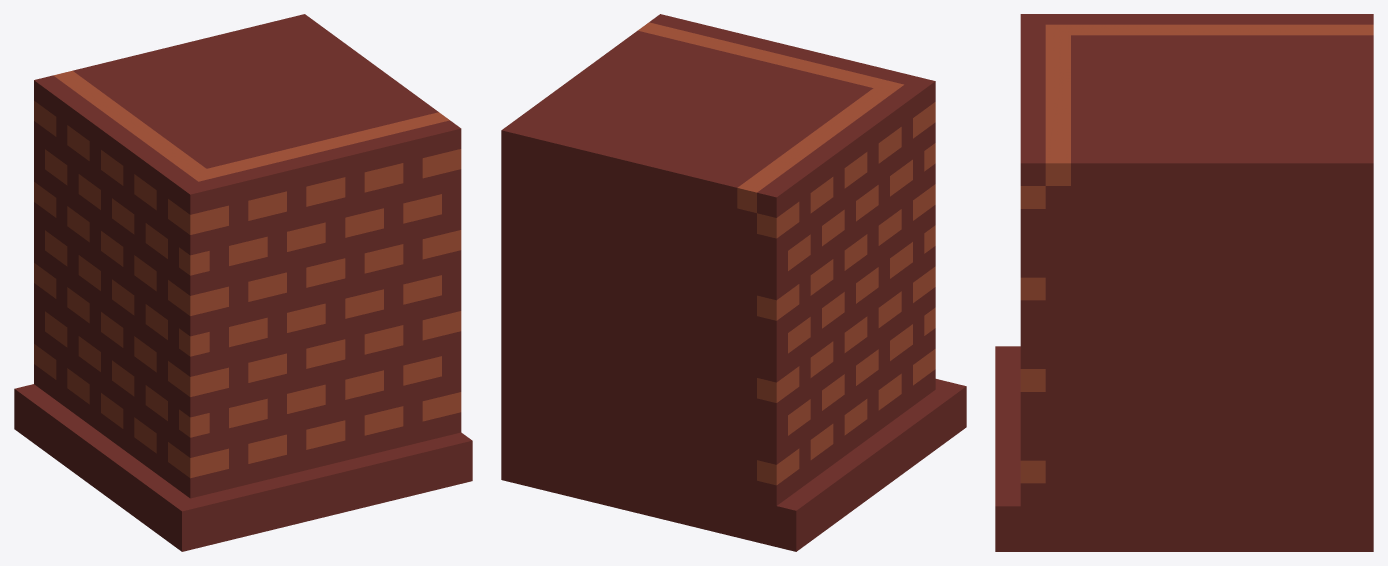
File: dungeon_b_a_outer_wall_corner_b.obj
3 renders of one model, left to right at view 1: azimuth 30°, elevation 25°; view 2: azimuth 150°, elevation 25°; view 3: azimuth 270°, elevation 25°, orthographic. The views are drawn at different scales.
Size of the model in its own units: 1.5 by 1.7 by 1.5.
Materials: 1 (1 with a texture image).
